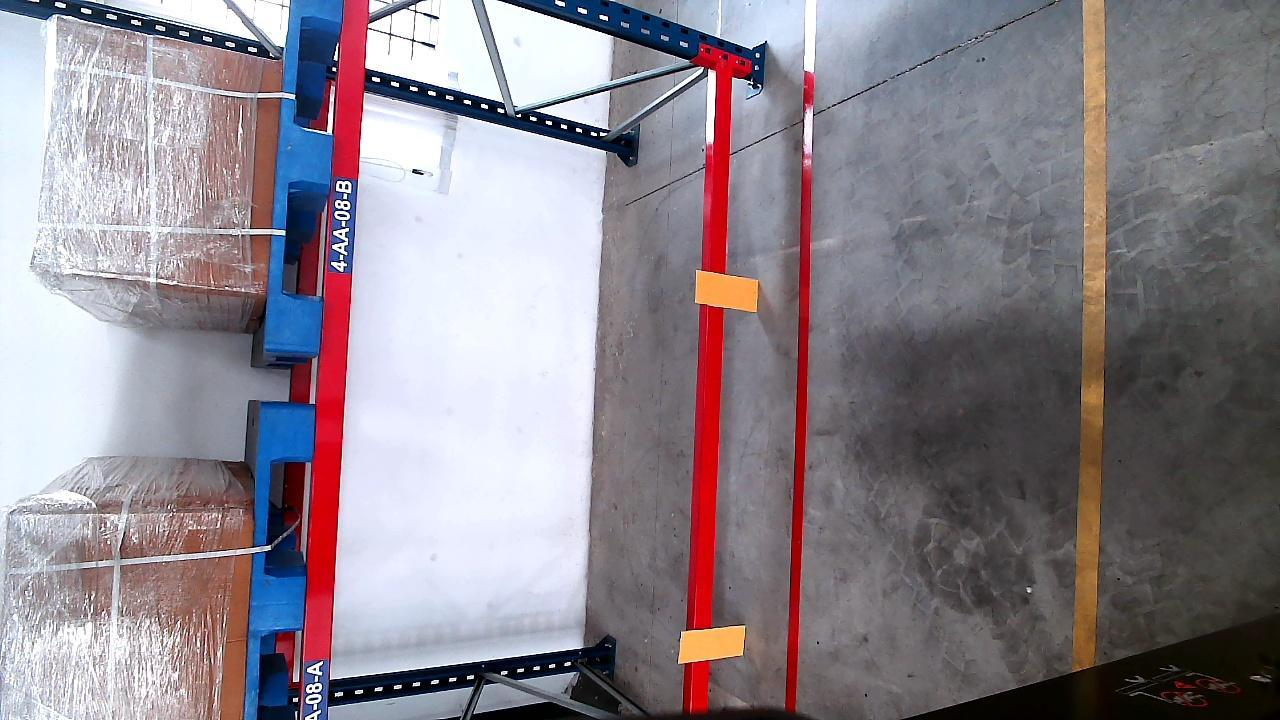red_line: (785, 0, 815, 710)
yellow_line: (1077, 0, 1101, 671)
